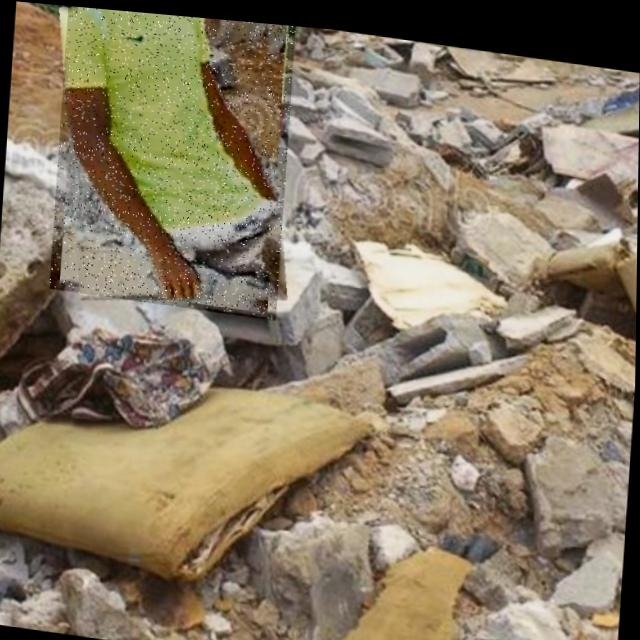Person in Rubble: (50, 4, 295, 316)
